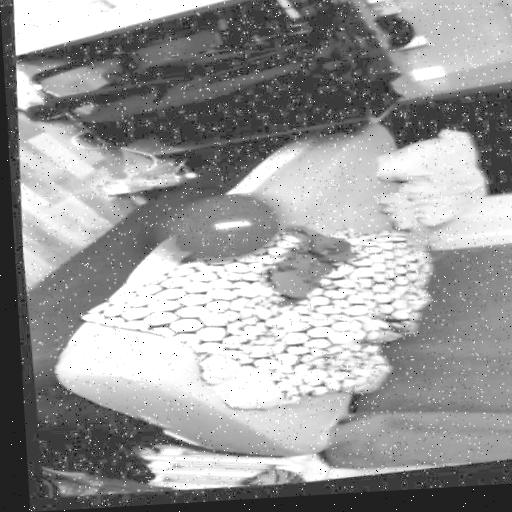balloon: (146, 185, 293, 276)
